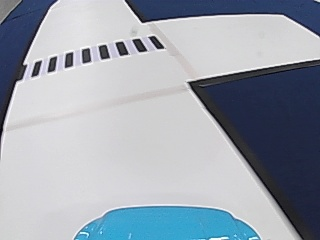CrossWalk: (27, 36, 164, 74)
